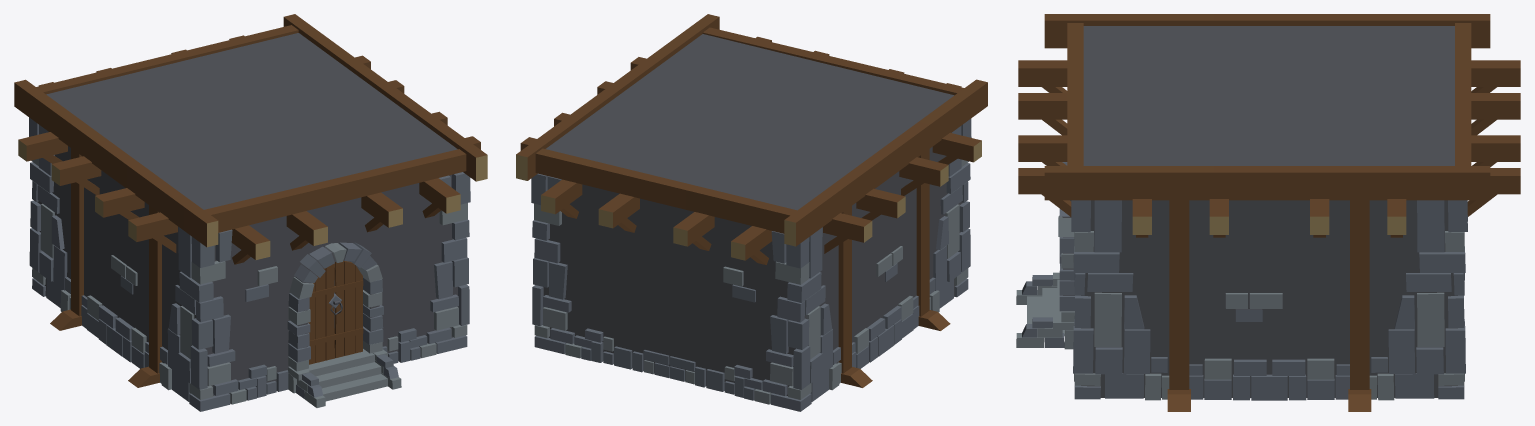
File: v_house_4.glb
3 views of the same model, side by side, from view 1: azimuth 30°, elevation 25°; view 2: azimuth 150°, elevation 25°; view 3: azimuth 270°, elevation 25° (orthographic). The views are drawn at different scales.
Visible parts, largest first — view 1: House_4; view 2: House_4; view 3: House_4.
Boxes of the visible parts, x1,y1,x2,y2 form: House_4: (14, 14, 487, 411); House_4: (516, 14, 987, 411); House_4: (1016, 14, 1520, 411).
Bounding box in the file's own units: 1.94 × 1.07 × 2.12.
